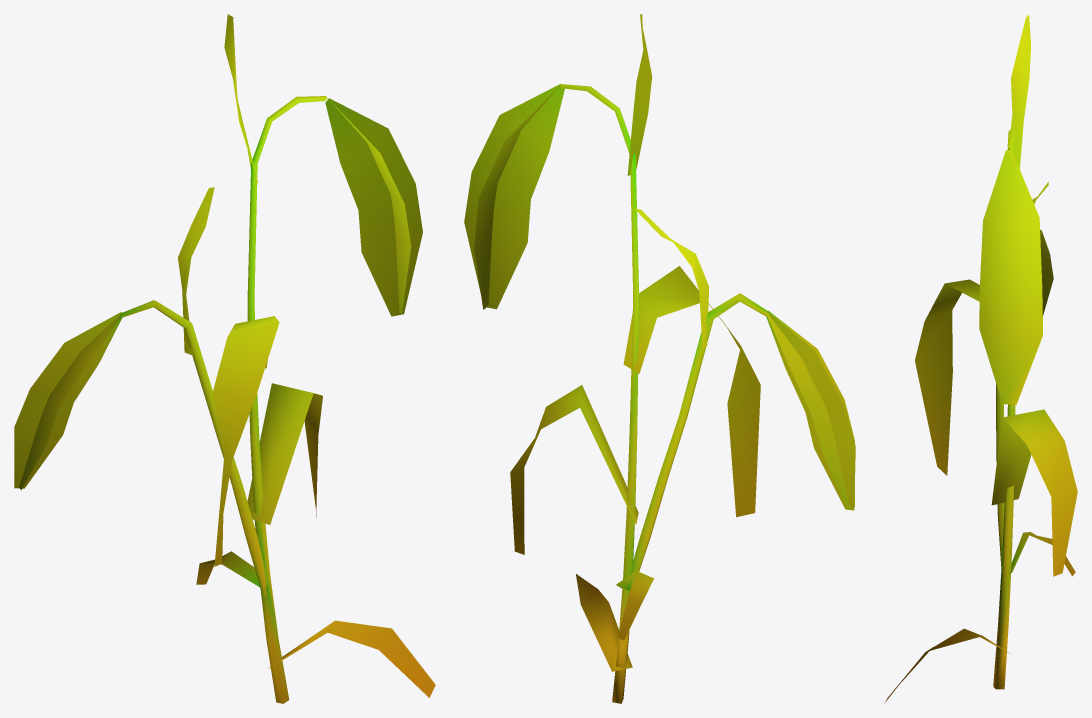
File: SM_BarleyPlant_12.fbx
3 renders of one model, left to right at view 1: azimuth 30°, elevation 25°; view 2: azimuth 150°, elevation 25°; view 3: azimuth 270°, elevation 25°, orthographic. The views are drawn at different scales.
Visible parts, largest first — view 1: SM_BarleyPlant_12; view 2: SM_BarleyPlant_12; view 3: SM_BarleyPlant_12.
Part boxes in pixels (x1,y1,x2,y2): SM_BarleyPlant_12: (14,14,435,703); SM_BarleyPlant_12: (464,14,855,703); SM_BarleyPlant_12: (884,14,1077,703).
Bounding box in the file's own units: 1.18 × 1.97 × 0.527.
